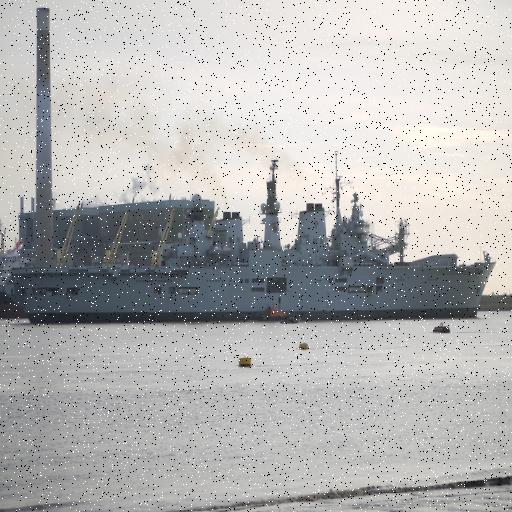Portanaves: (10, 141, 501, 329)
